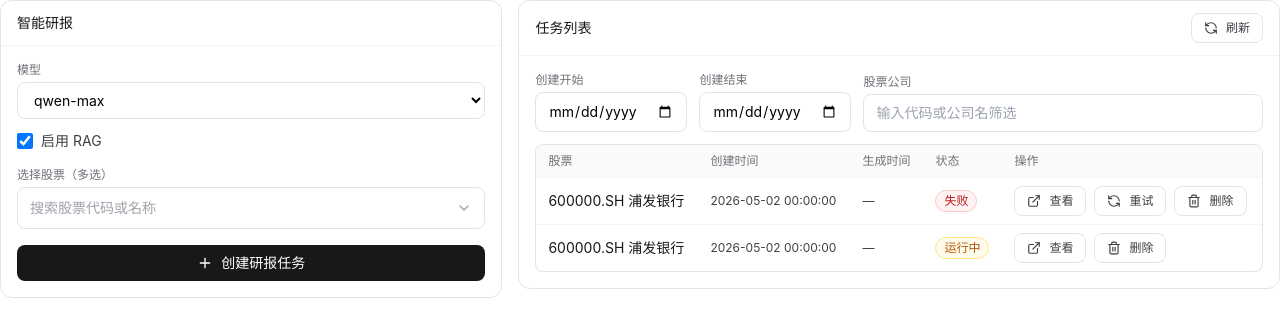
Test: reports：失败/运行中任务点击查看用 toast 提示且不打开新页面
This screenshot has width=1280, height=315.
Expected: the text "任务列表" is shown, [535, 18, 591, 38]
Click the button "查看" next to "失败" at x=1050, y=201, box [1014, 186, 1086, 216]
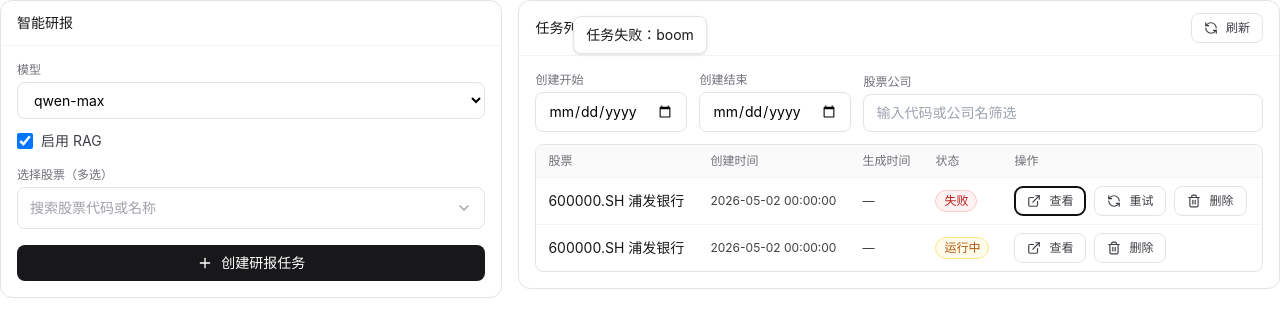
Now the text "任务失败：boom" is shown, box [573, 16, 707, 54]
Click the button "查看" next to "运行中" at x=1050, y=248, box [1014, 233, 1086, 263]
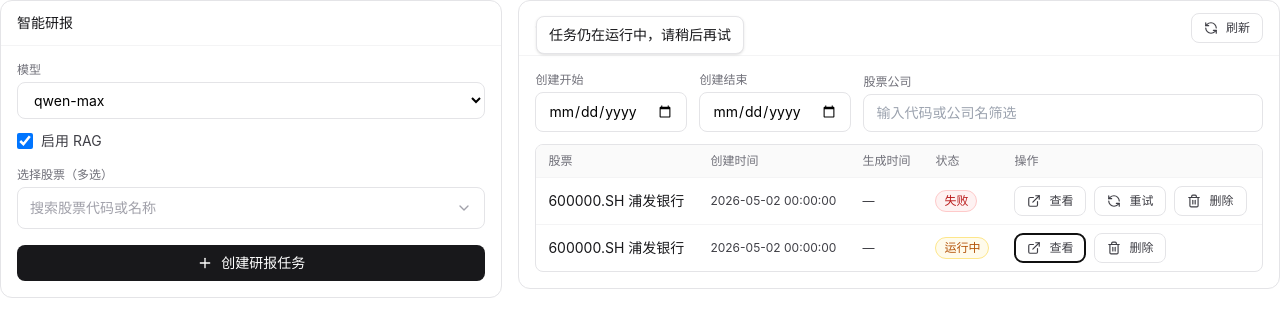
Now the text "任务仍在运行中，请稍后再试" is shown, box [536, 16, 744, 54]
